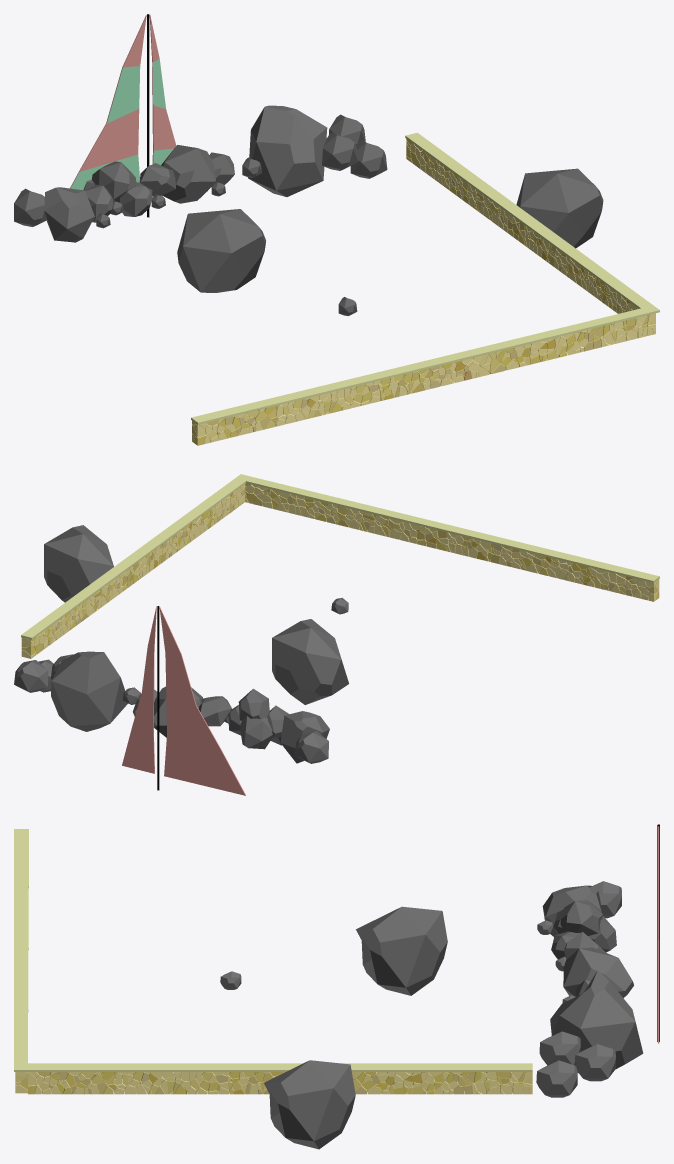
File: wall.glb
3 renders of one model, top to bottom at view 1: azimuth 30°, elevation 25°; view 2: azimuth 150°, elevation 25°; view 3: azimuth 270°, elevation 25°, orthographic. The views are drawn at different scales.
Parts seen in each view (by area): view 1: Icosphere, Cube.005, Cube.002, Circle, Cube.001; view 2: Icosphere, Circle, Cube.005, Cube.002, Cube.001; view 3: Icosphere, Cube.001, Cube.002, Circle.
Boxes of the visible parts, x1,y1,x2,y2 form: Icosphere: (14,105,603,315); Cube.005: (192,313,655,445); Cube.002: (191,132,659,424); Circle: (70,14,176,217); Cube.001: (406,139,638,313); Icosphere: (14,525,348,763); Circle: (122,606,245,795); Cube.005: (245,483,659,601); Cube.002: (21,474,659,639); Cube.001: (21,484,245,658); Icosphere: (220,881,643,1149); Cube.001: (28,1072,532,1094); Cube.002: (14,829,532,1071); Circle: (657,824,659,1043).
Size of what is drawn, in the model's own units: 105 by 38 by 102.
